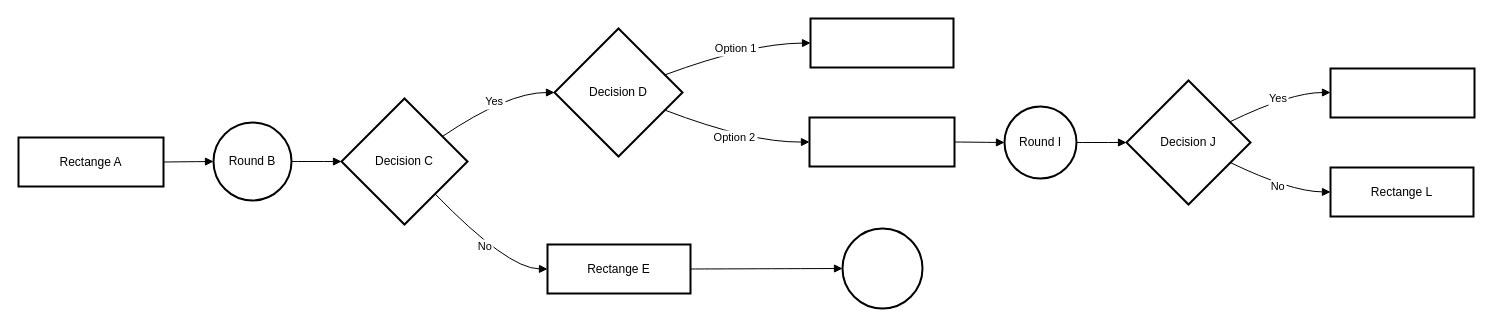
This 1492x326 diagram has some shape labels left out. Here are the shapes that lost their labels. From the top down, the centre of each, then its label:
At (x=881, y=42): "Rectange F".
At (x=1402, y=92): "Rectange K".
At (x=881, y=141): "Rectange G".
At (x=882, y=268): "Round H".
